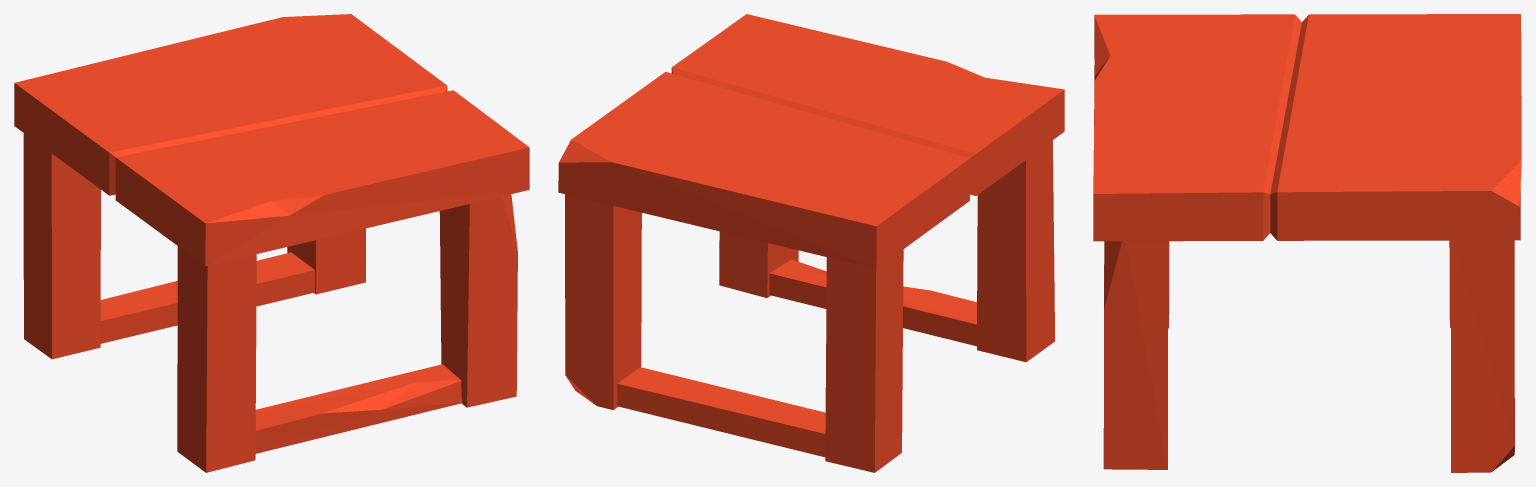
The model's file is SM_Stool_B_City.fbx.
3 renders of one model, left to right at view 1: azimuth 30°, elevation 25°; view 2: azimuth 150°, elevation 25°; view 3: azimuth 270°, elevation 25°, orthographic. The views are drawn at different scales.
Visible parts, largest first — view 1: SM_Stool_B_City; view 2: SM_Stool_B_City; view 3: SM_Stool_B_City.
Part boxes in pixels (x1,y1,x2,y2): SM_Stool_B_City: (14,14,529,472); SM_Stool_B_City: (558,14,1064,472); SM_Stool_B_City: (1093,14,1521,472).
Size of the model in its own units: 0.4708 by 0.3541 by 0.4835.
